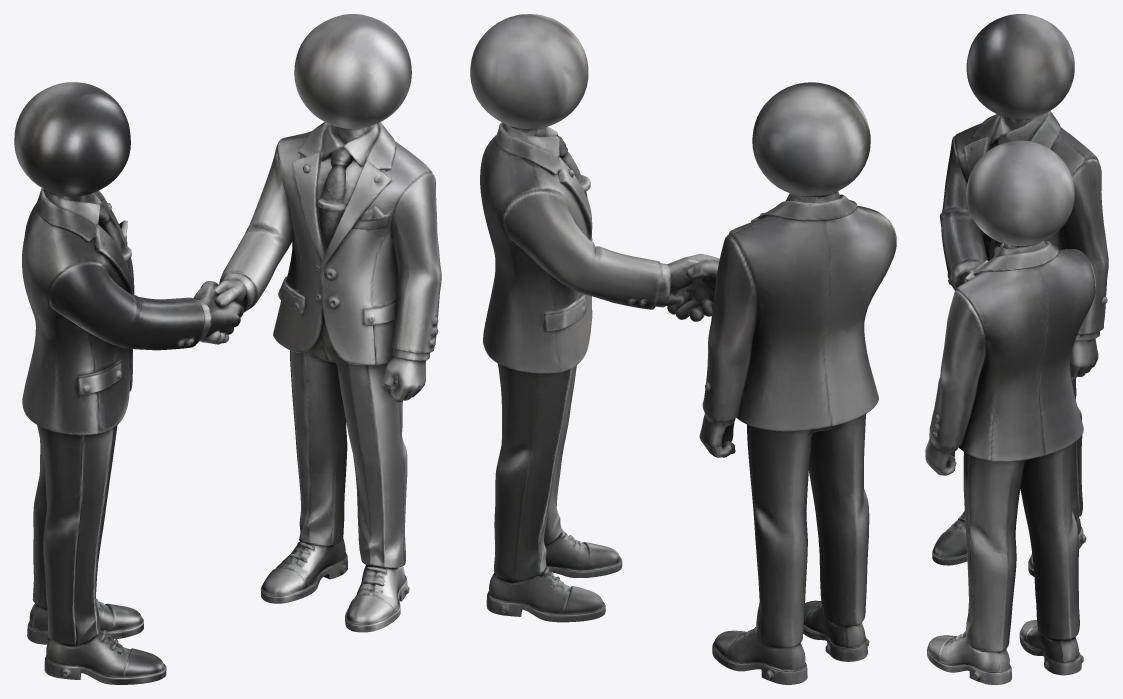
File: launch-contract-sd.glb
3 views of the same model, side by side, from view 1: azimuth 30°, elevation 25°; view 2: azimuth 150°, elevation 25°; view 3: azimuth 270°, elevation 25° (orthographic). The views are drawn at different scales.
Parts seen in each view (by area): view 1: tripo_node_9f42b8e5-a736-4618-8445-27cf31d60743; view 2: tripo_node_9f42b8e5-a736-4618-8445-27cf31d60743; view 3: tripo_node_9f42b8e5-a736-4618-8445-27cf31d60743.
Boxes of the visible parts, x1=… form: tripo_node_9f42b8e5-a736-4618-8445-27cf31d60743: x1=14, y1=14, x2=441, y2=684; tripo_node_9f42b8e5-a736-4618-8445-27cf31d60743: x1=470, y1=14, x2=896, y2=684; tripo_node_9f42b8e5-a736-4618-8445-27cf31d60743: x1=925, y1=14, x2=1108, y2=684.
Bounding box in the file's own units: 1.16 × 1.58 × 0.501.
1 material, 1 textured.
